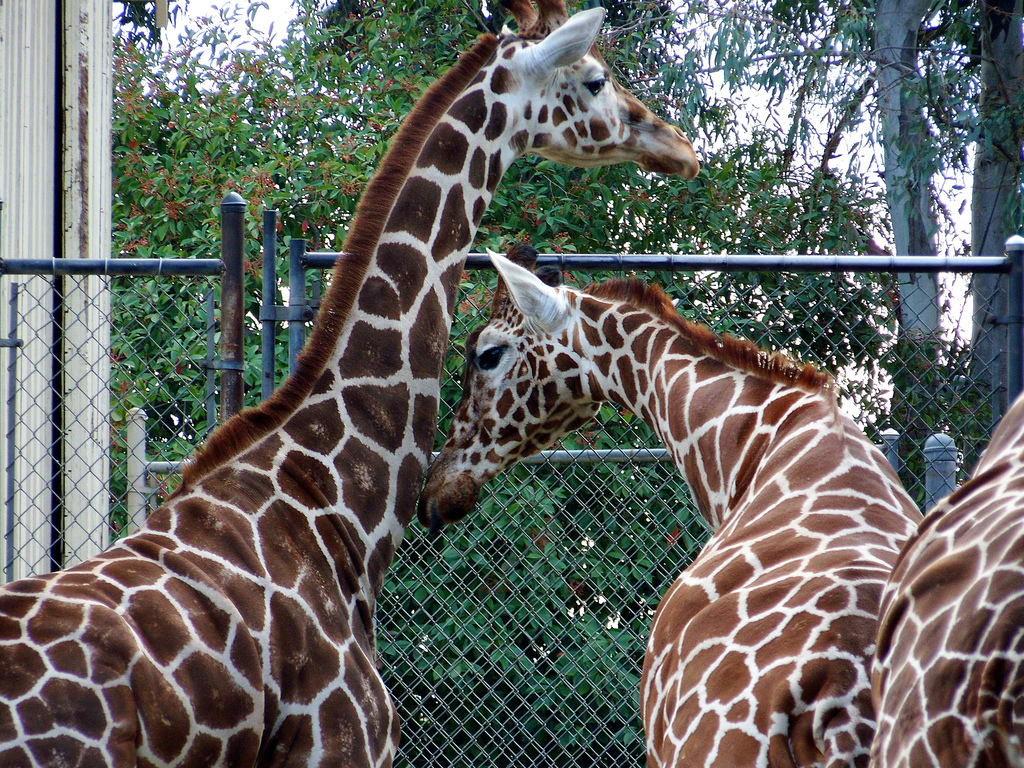giraffe: (38, 25, 736, 746), (424, 282, 924, 768)
